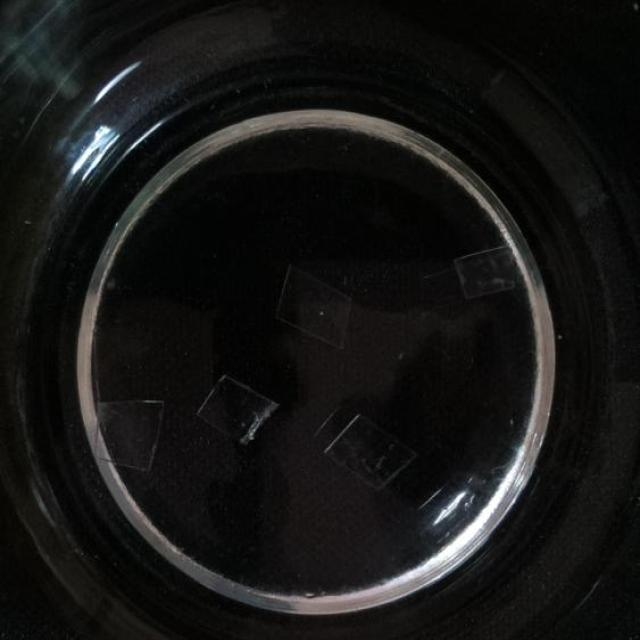fiber: (318, 404, 412, 487), (276, 264, 357, 345), (92, 396, 160, 471), (197, 372, 272, 440), (451, 250, 520, 298)
